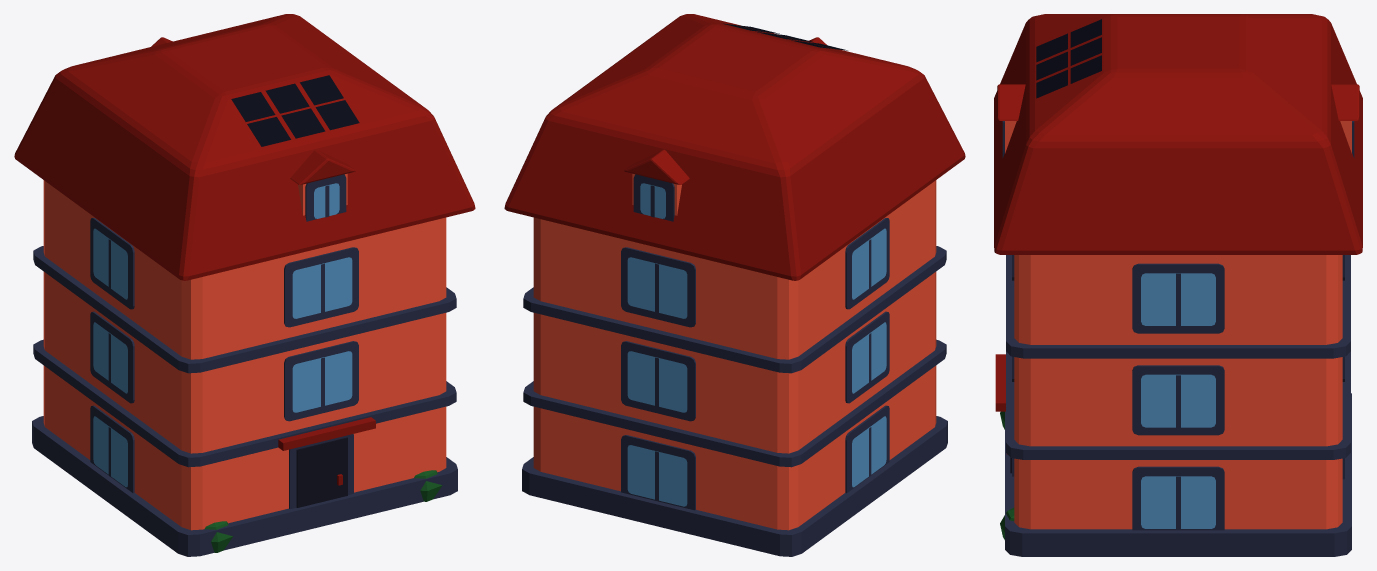
File: house-1x1-3f-mansard-c-solar.glb
3 renders of one model, left to right at view 1: azimuth 30°, elevation 25°; view 2: azimuth 150°, elevation 25°; view 3: azimuth 270°, elevation 25°, orthographic. The views are drawn at different scales.
Visible parts, largest first — view 1: house-1x1-3f-mansard-c-solar; view 2: house-1x1-3f-mansard-c-solar; view 3: house-1x1-3f-mansard-c-solar.
Boxes of the visible parts, x1,y1,x2,y2 form: house-1x1-3f-mansard-c-solar: (14,14,475,556); house-1x1-3f-mansard-c-solar: (504,14,965,556); house-1x1-3f-mansard-c-solar: (994,14,1362,556).
Bounding box in the file's own units: 0.9876 × 1.3 × 0.9876.
Materials: 1 (1 with a texture image).
